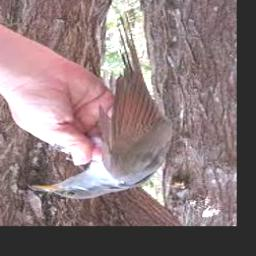Cuckoo: (29, 14, 173, 199)
